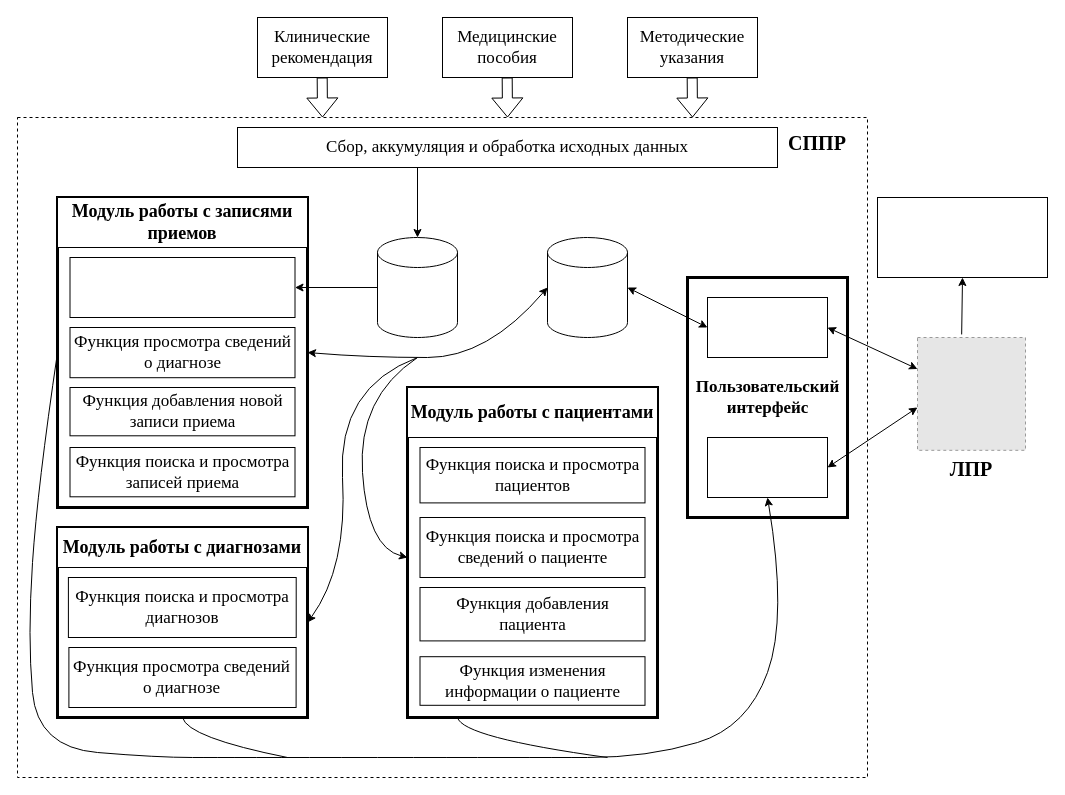
Some shapes in this 1065 by 795 pixel diagram are drawn without their labels. Grey dashed boxes stand in for pictures. Each missing label, with the centre of its shape:
"База данных" goes at (x=587, y=287).
"База знаний" goes at (x=417, y=287).
"Принятие решения" goes at (x=962, y=237).
"Раздел ввода входных данных" goes at (x=767, y=327).
"Раздел вывода рекомендаций" goes at (x=767, y=467).
"Функция формирования клинических рекомендаций" goes at (x=182, y=287).
